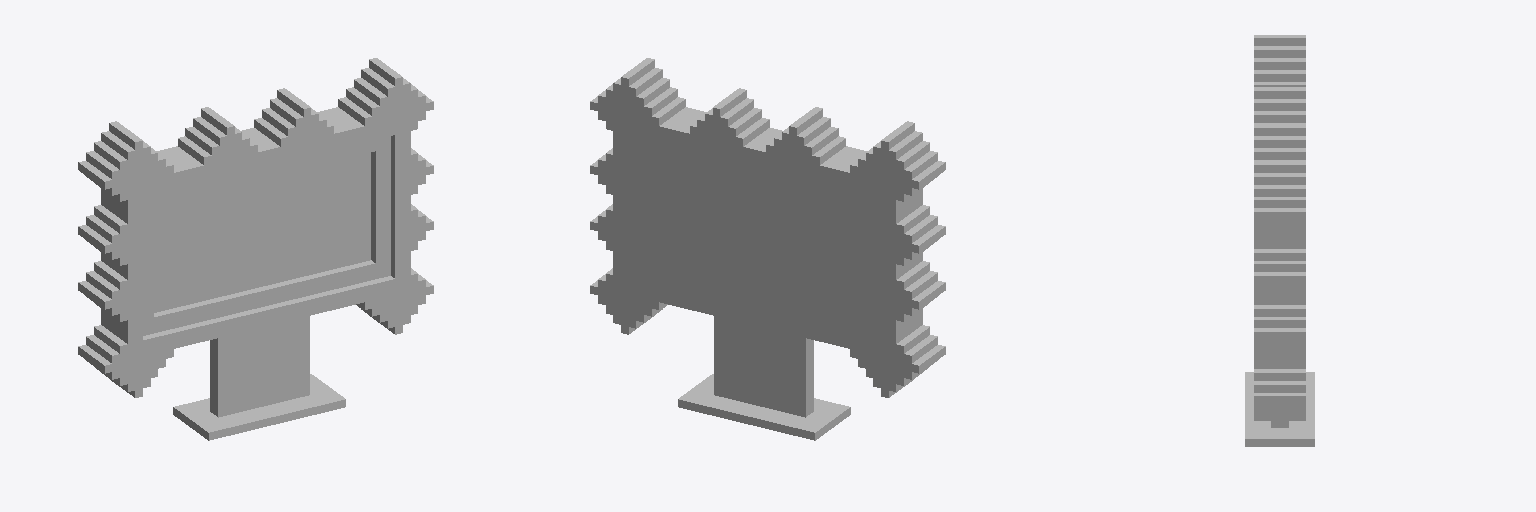
The model's file is Game_monitor2.obj.
3 views of the same model, side by side, from view 1: azimuth 30°, elevation 25°; view 2: azimuth 150°, elevation 25°; view 3: azimuth 270°, elevation 25° (orthographic).
Visible parts, largest first — view 1: monitor2; view 2: monitor2; view 3: monitor2.
Part boxes in pixels (x1,y1,x2,y2): monitor2: (78, 58, 433, 440); monitor2: (590, 58, 945, 440); monitor2: (1245, 35, 1314, 446).
Bounding box in the file's own units: 4.3 × 3.9 × 0.8.